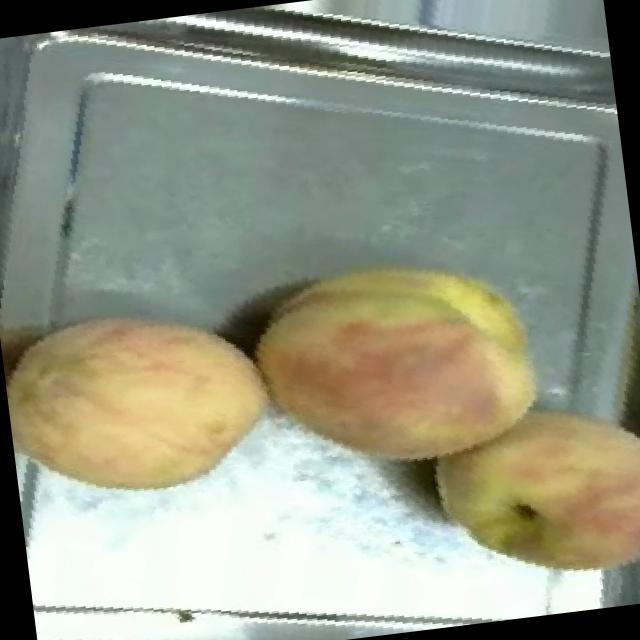Fruit: (219, 206, 581, 512), (0, 260, 298, 536), (396, 364, 640, 619)
